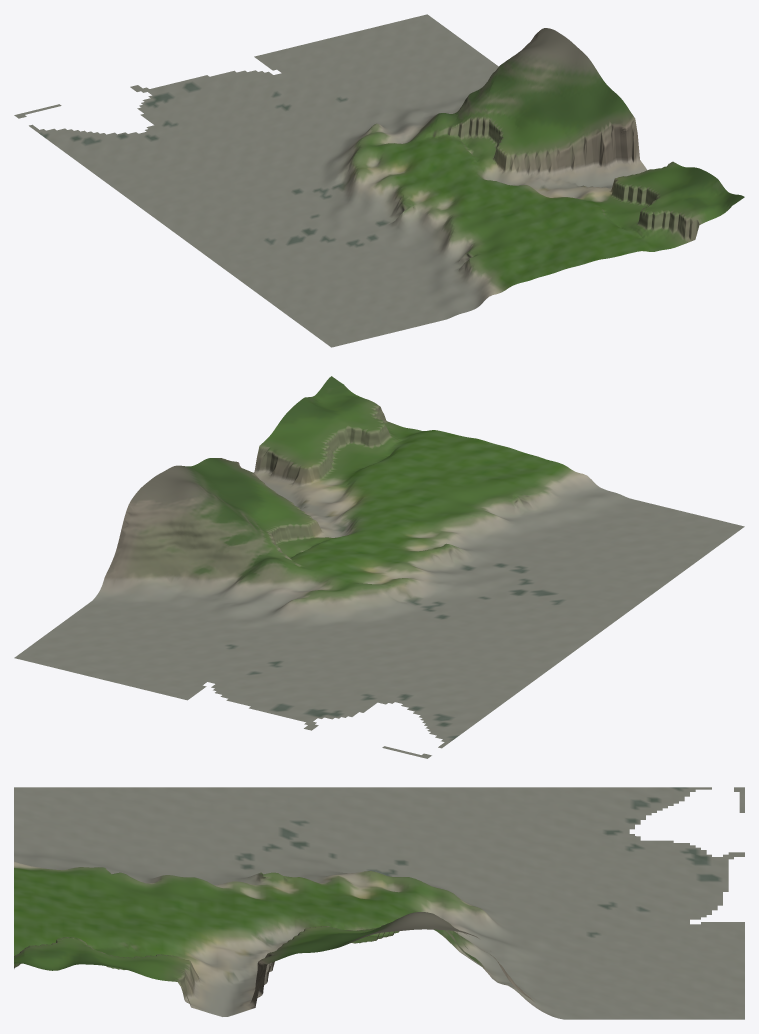
The model's file is coast_tile_x0z0.glb.
3 renders of one model, top to bottom at view 1: azimuth 30°, elevation 25°; view 2: azimuth 150°, elevation 25°; view 3: azimuth 270°, elevation 25°, orthographic. The views are drawn at different scales.
Visible parts, largest first — view 1: coast_tile_x0z0; view 2: coast_tile_x0z0; view 3: coast_tile_x0z0.
Part boxes in pixels (left/top/right/bottom): coast_tile_x0z0: left=14, top=14, right=744, bottom=347; coast_tile_x0z0: left=14, top=376, right=744, bottom=758; coast_tile_x0z0: left=14, top=787, right=744, bottom=1019.
Size of the model in its own units: 600 by 109 by 798.
